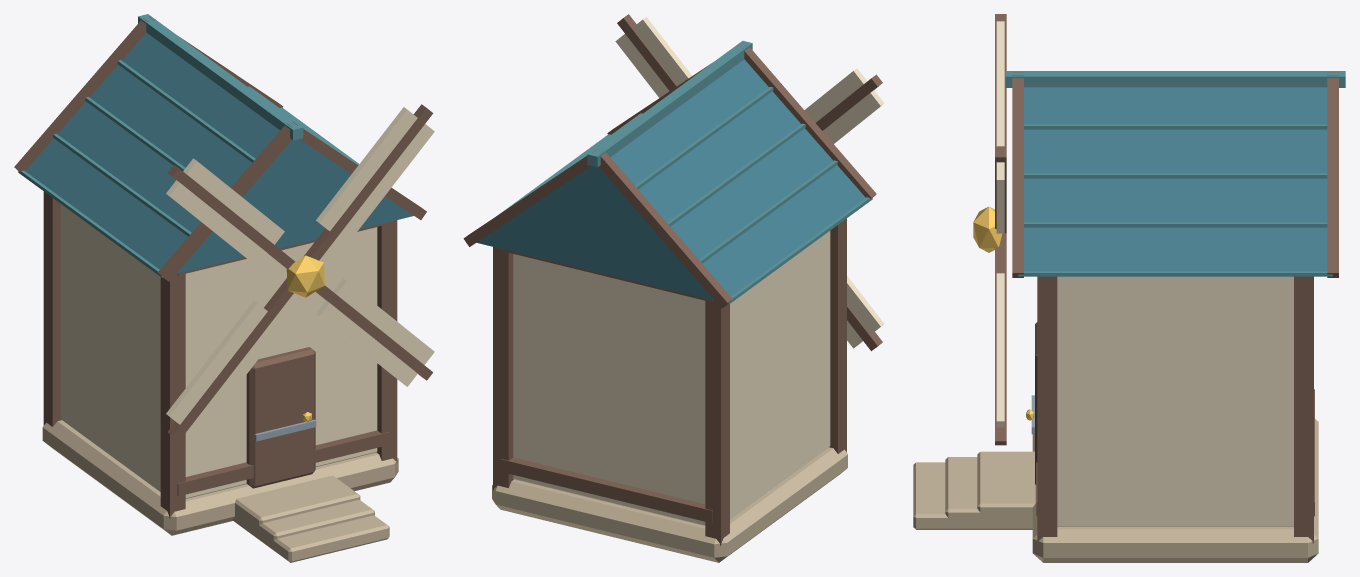
File: mill.glb
3 views of the same model, side by side, from view 1: azimuth 30°, elevation 25°; view 2: azimuth 150°, elevation 25°; view 3: azimuth 270°, elevation 25° (orthographic). The views are drawn at different scales.
Visible parts, largest first — view 1: mill; view 2: mill; view 3: mill.
Part boxes in pixels (bbox=[...]): mill: bbox=[14, 14, 434, 562]; mill: bbox=[463, 14, 884, 562]; mill: bbox=[913, 14, 1345, 562].
Bounding box in the file's own units: 2.88 × 4.08 × 3.71.
